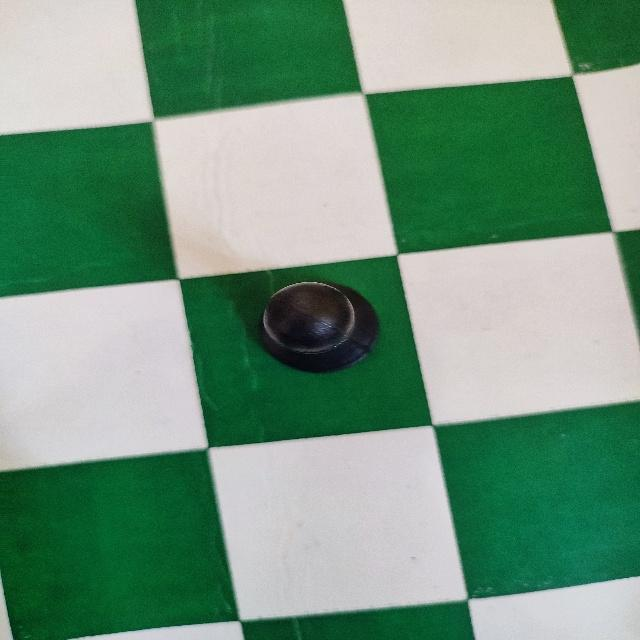Pawn: (253, 272, 388, 382)
